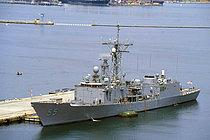MIL_Ship: (33, 31, 199, 126)
